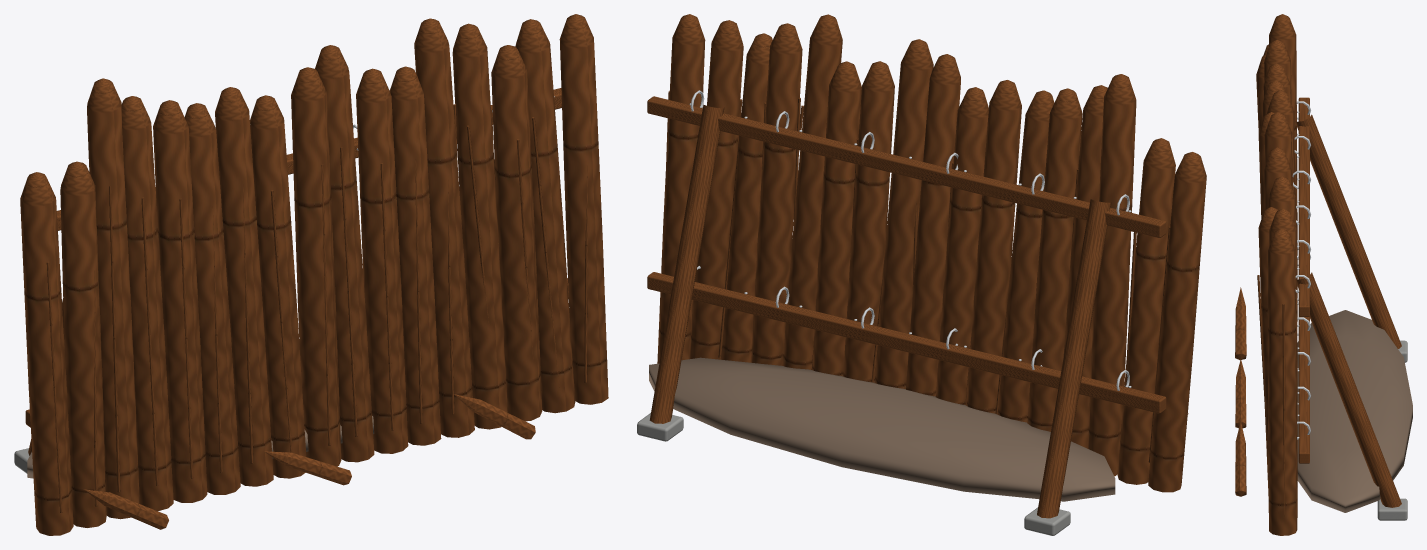
Rendered from fps-survival-forest-outpost-palisade-bay-884ec4c5__32638.glb.
3 views of the same model, side by side, from view 1: azimuth 30°, elevation 25°; view 2: azimuth 150°, elevation 25°; view 3: azimuth 270°, elevation 25° (orthographic). The views are drawn at different scales.
Parts seen in each view (by area): view 1: palisade-bay; view 2: palisade-bay; view 3: palisade-bay.
Part boxes in pixels (bbox=[...]): palisade-bay: bbox=[14, 14, 608, 535]; palisade-bay: bbox=[637, 14, 1206, 535]; palisade-bay: bbox=[1235, 14, 1412, 535].
Bounding box in the file's own units: 4.18 × 3.02 × 1.43.
Materials: 4 (2 with a texture image).
